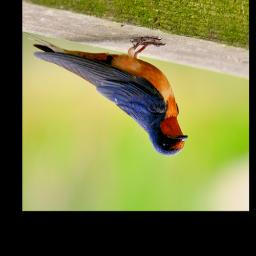Swallow: (32, 29, 192, 161)
